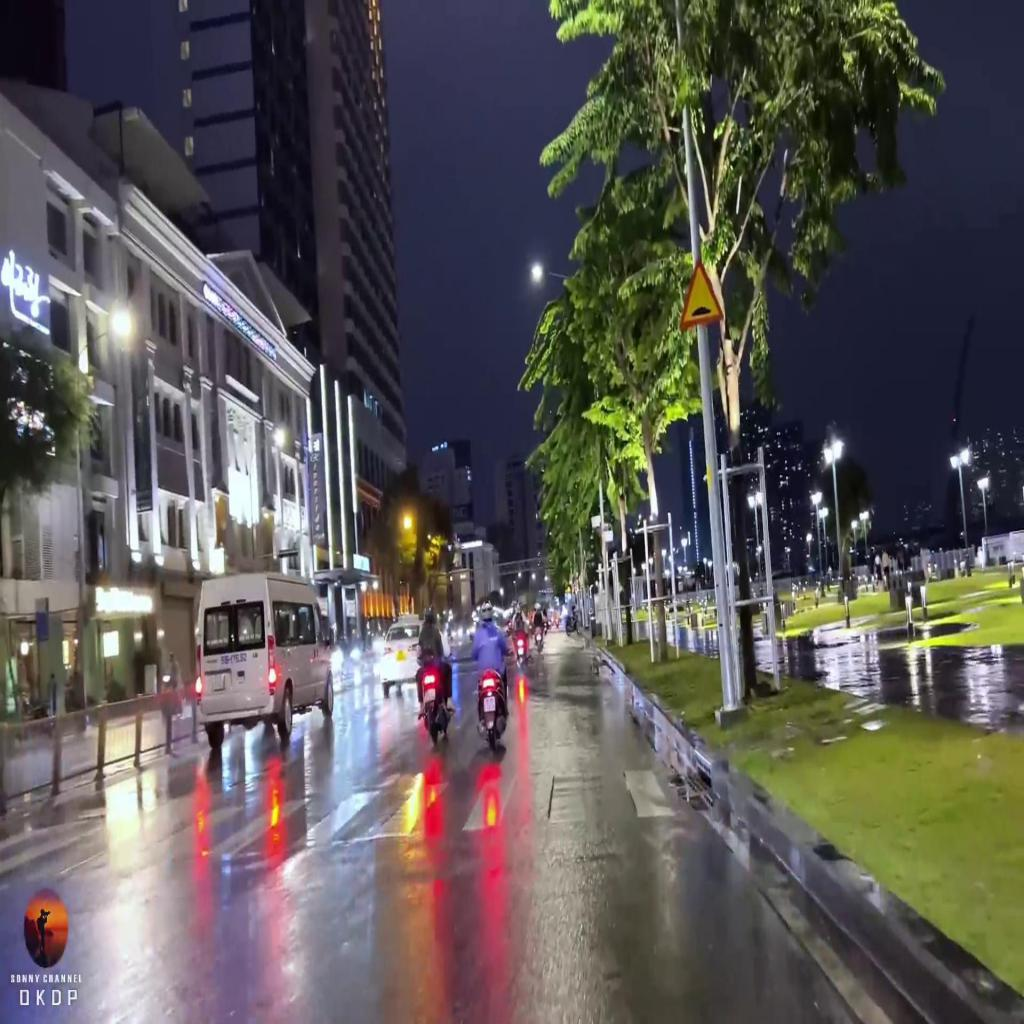duong_co_song_map_mo_nhan_tao: (678, 255, 725, 330)
